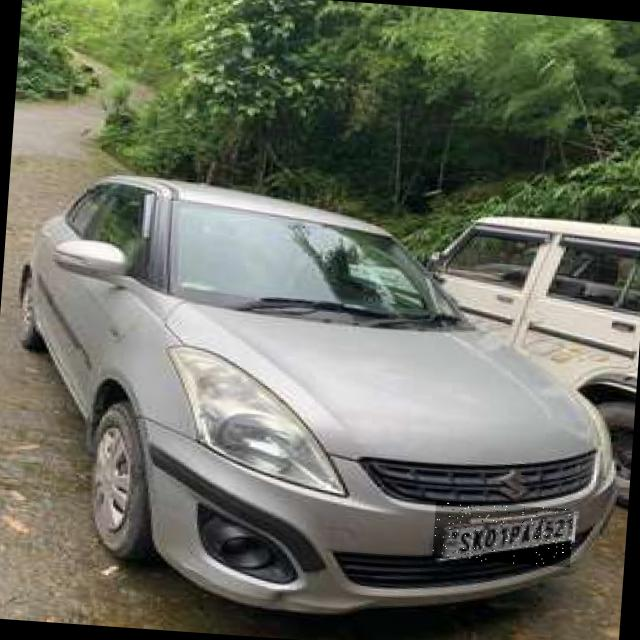Plate: (433, 501, 575, 568)
